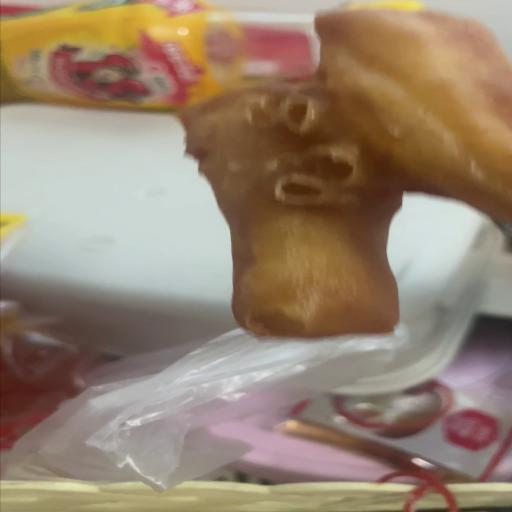street_burnt_defect: (180, 6, 511, 341)
